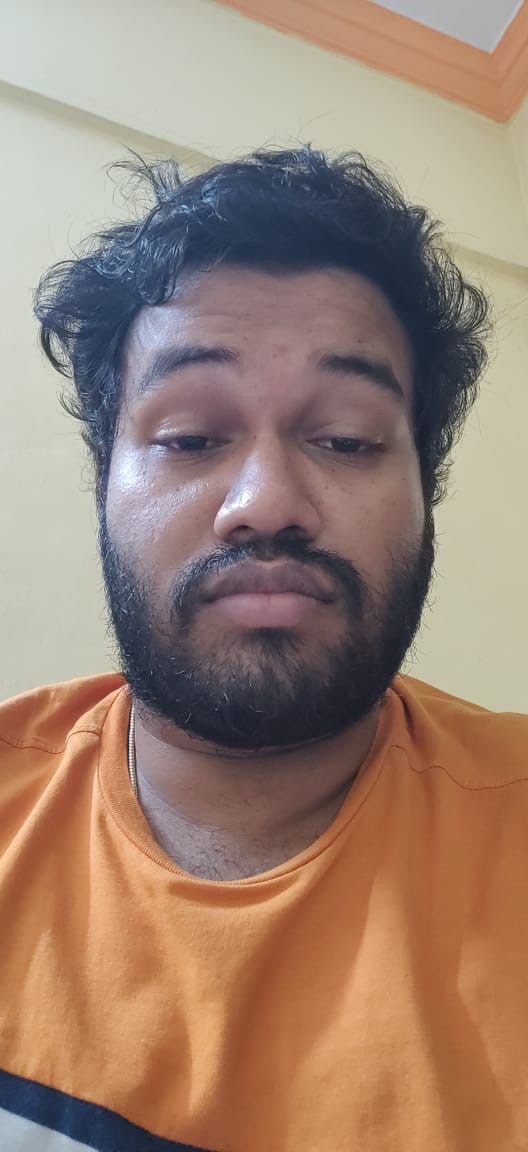Half Asleep: (128, 384, 412, 483)
